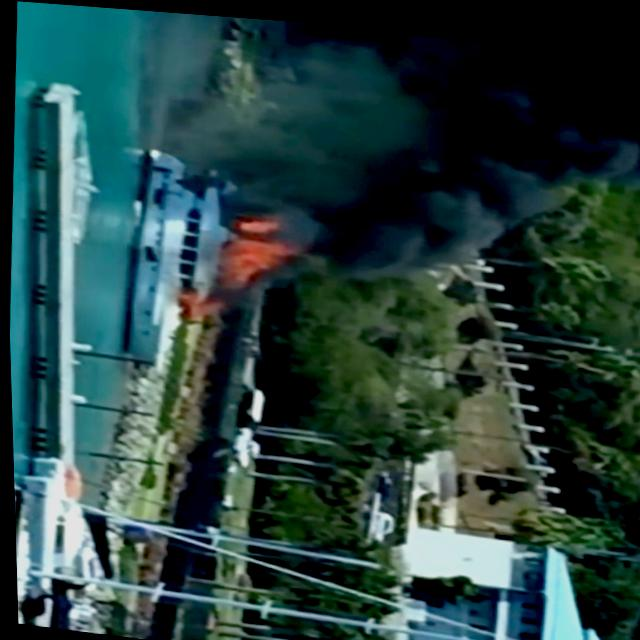smoke: (235, 49, 522, 249), (469, 35, 640, 181), (258, 15, 640, 69)
